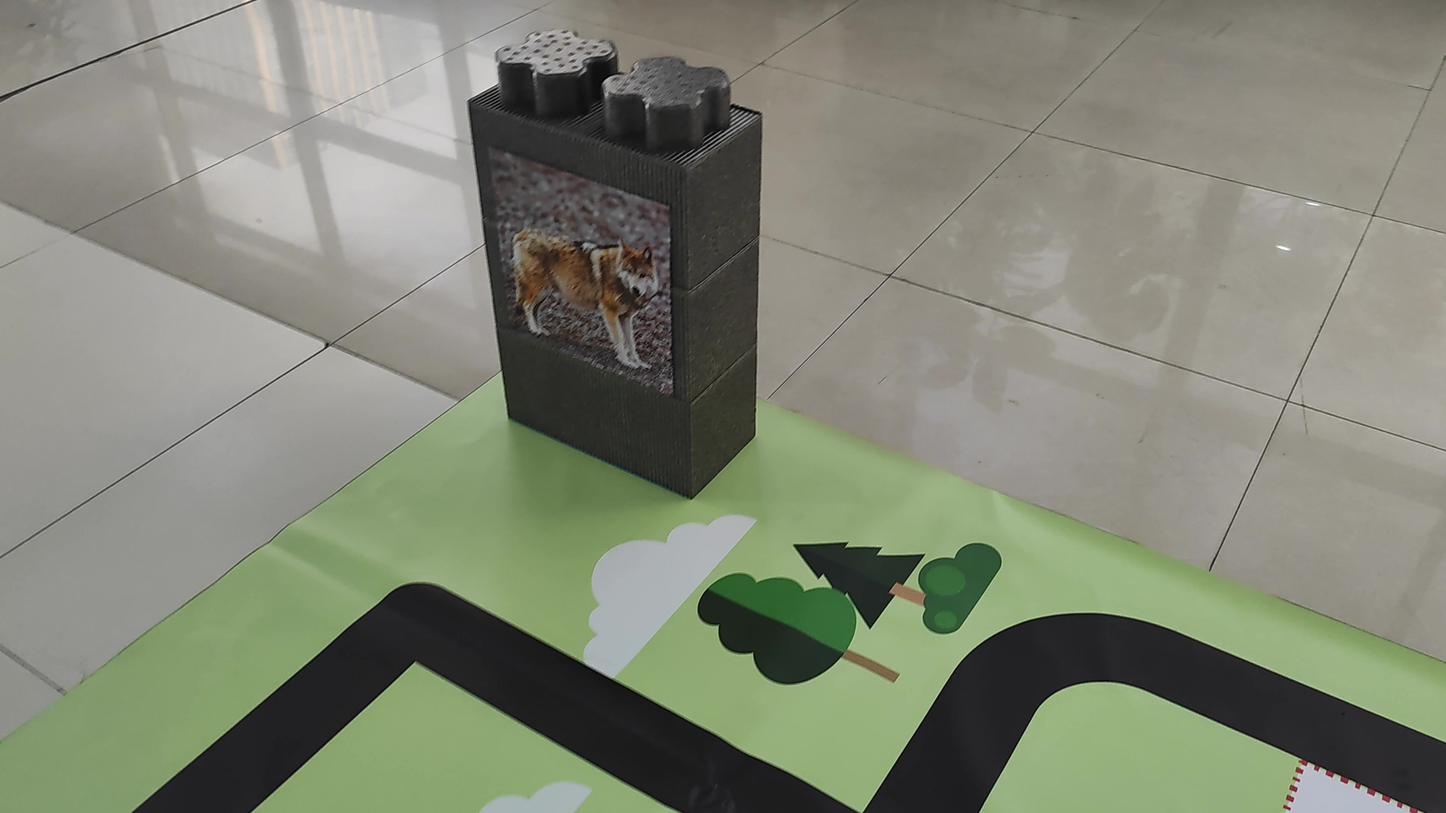wolf: (483, 160, 673, 371)
